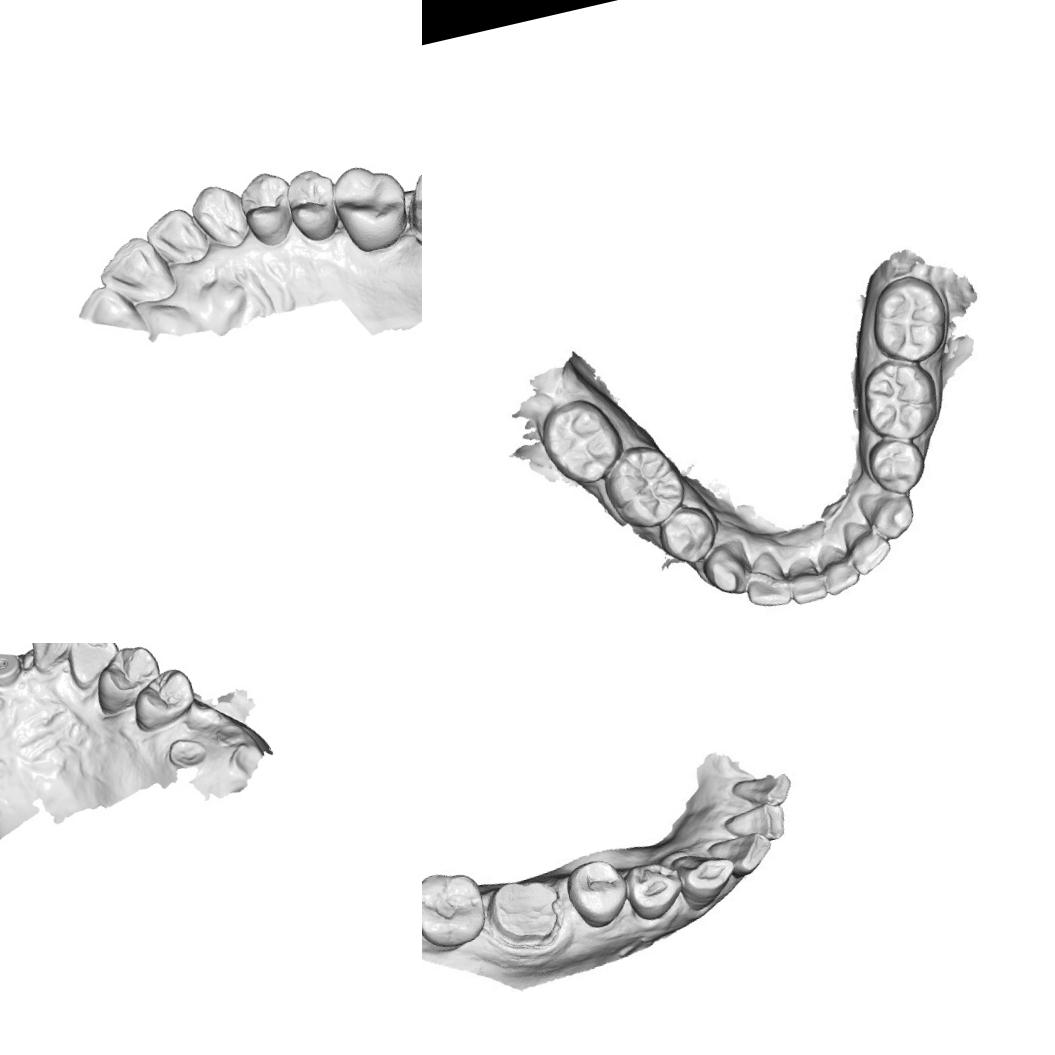canine: (185, 174, 254, 254), (854, 482, 920, 546), (55, 643, 128, 692), (698, 540, 752, 604), (678, 846, 738, 903)
crown: (396, 162, 422, 251)
implant: (0, 644, 25, 691)
incisor: (91, 227, 180, 315), (140, 202, 212, 274), (718, 764, 801, 815), (738, 550, 799, 618), (842, 518, 897, 580), (813, 535, 865, 595), (710, 830, 770, 880), (782, 555, 832, 614), (731, 806, 785, 844), (20, 643, 75, 677)
molar: (323, 154, 419, 261), (859, 268, 960, 368), (542, 396, 627, 489), (422, 861, 502, 957), (604, 446, 694, 530), (857, 355, 940, 446), (488, 870, 565, 948)
premolar: (83, 643, 167, 717), (230, 167, 302, 251), (122, 662, 204, 735), (281, 162, 346, 246), (564, 852, 636, 926), (654, 499, 722, 569), (628, 858, 687, 933), (868, 434, 930, 500)
